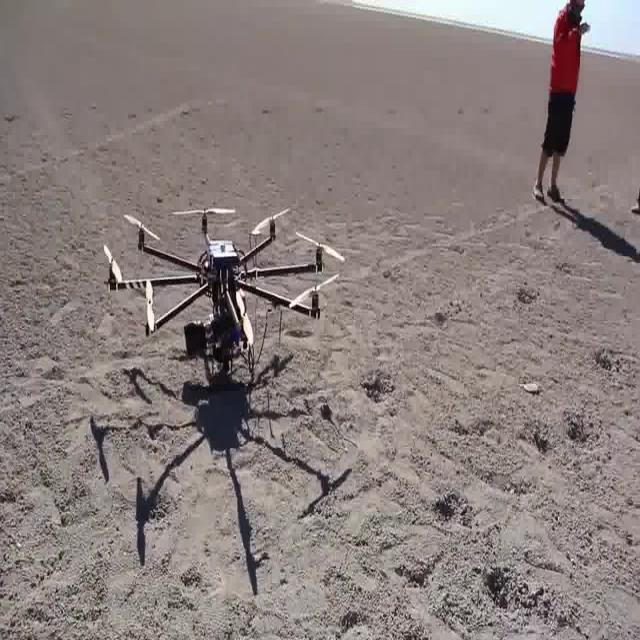Drone_FW: (102, 202, 346, 388)
